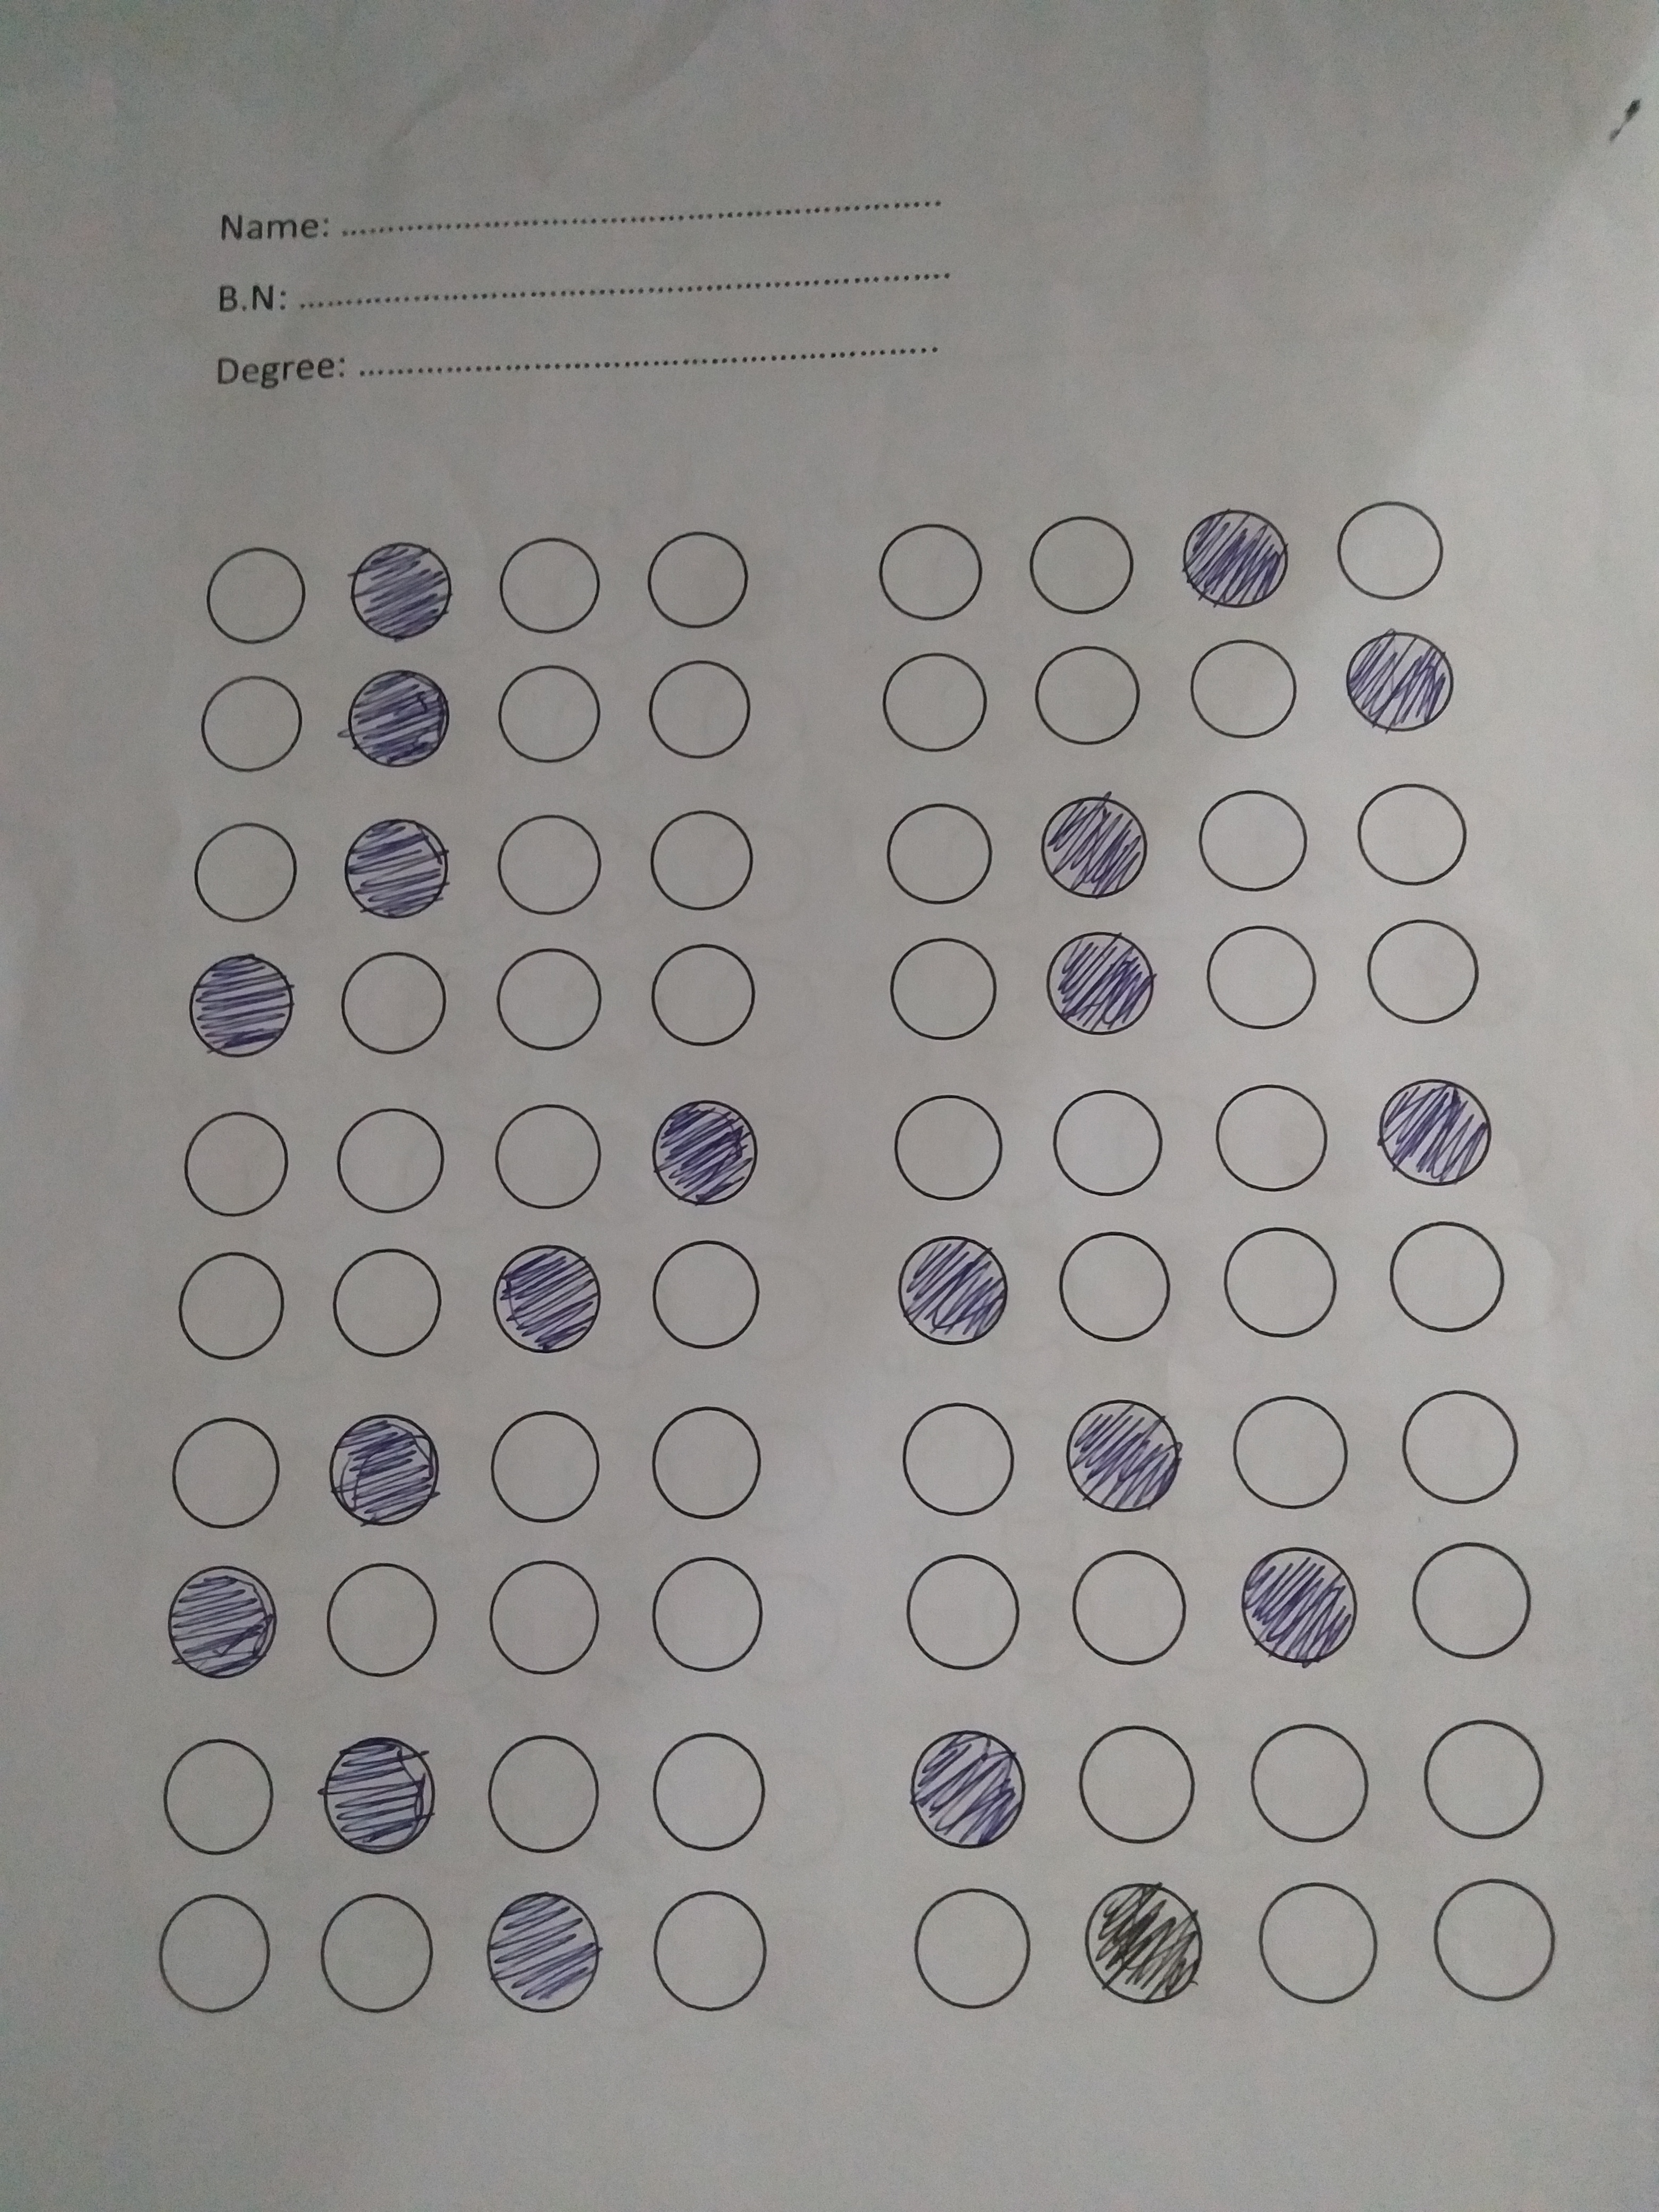not-c: (1211, 1224, 1342, 1352), (326, 1097, 457, 1224), (173, 1106, 303, 1233), (166, 1247, 296, 1374), (647, 1238, 777, 1366), (160, 1409, 291, 1536), (317, 1561, 448, 1688), (472, 1557, 603, 1684), (648, 1728, 779, 1855), (476, 1730, 606, 1857), (1229, 1390, 1359, 1517), (892, 1543, 1023, 1670), (1073, 1724, 1204, 1851), (1420, 1719, 1551, 1846), (645, 1892, 775, 2019), (1049, 1223, 1178, 1350), (477, 1402, 606, 1529), (1401, 1386, 1530, 1514), (152, 1890, 281, 2017), (486, 1094, 617, 1219), (317, 1245, 448, 1371), (640, 1552, 770, 1677), (148, 1737, 279, 1862), (890, 1399, 1021, 1524), (1406, 1536, 1537, 1662), (1066, 1541, 1197, 1667), (1241, 1723, 1371, 1848), (1429, 1876, 1560, 2001), (1255, 1879, 1385, 2005), (903, 1885, 1033, 2010), (305, 1892, 436, 2017), (645, 1404, 774, 1529), (870, 643, 990, 754), (1366, 916, 1486, 1028), (1209, 1083, 1330, 1195), (643, 523, 762, 634), (484, 662, 603, 773), (190, 671, 308, 782), (186, 815, 305, 927), (495, 808, 613, 920), (648, 806, 767, 918), (650, 942, 769, 1054), (491, 942, 610, 1054), (329, 944, 448, 1055), (870, 523, 988, 634), (1333, 489, 1452, 601), (1182, 634, 1300, 745), (1028, 641, 1147, 752), (882, 796, 1000, 907), (1192, 786, 1310, 897), (1356, 780, 1474, 892), (1197, 923, 1316, 1035), (880, 932, 999, 1043), (890, 1092, 1009, 1204), (1049, 1087, 1168, 1198), (197, 545, 315, 655), (495, 535, 613, 644), (647, 648, 765, 758), (1021, 509, 1140, 618), (1391, 1223, 1509, 1332)
taken-c: (477, 1886, 610, 2024), (1077, 1879, 1215, 2010), (1368, 1069, 1499, 1197), (1058, 1390, 1188, 1517), (481, 1231, 612, 1359), (153, 1555, 284, 1683), (1236, 1541, 1364, 1669), (887, 1230, 1018, 1355), (641, 1090, 772, 1216), (903, 1726, 1033, 1851), (315, 1409, 446, 1534), (314, 1733, 444, 1858), (1039, 920, 1162, 1047), (1028, 787, 1159, 904), (178, 948, 303, 1066), (1337, 625, 1464, 740), (336, 813, 458, 932), (1175, 498, 1300, 610), (343, 660, 458, 775), (342, 535, 460, 646)
